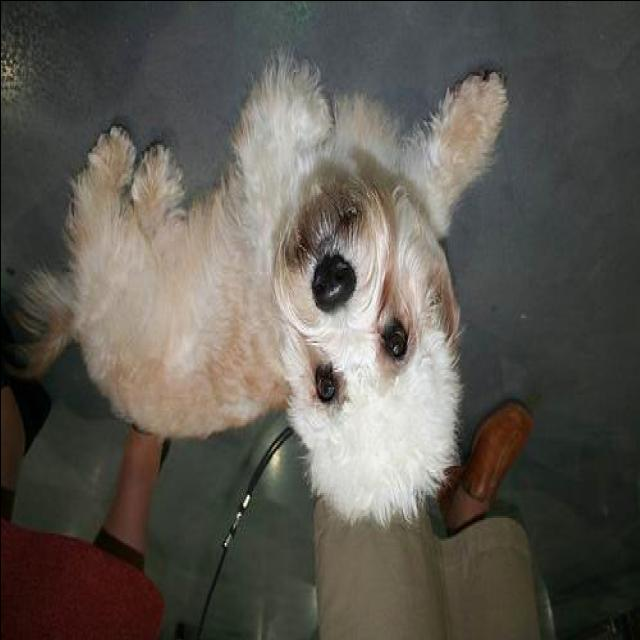dandie_dinmont: (1, 55, 508, 522)
